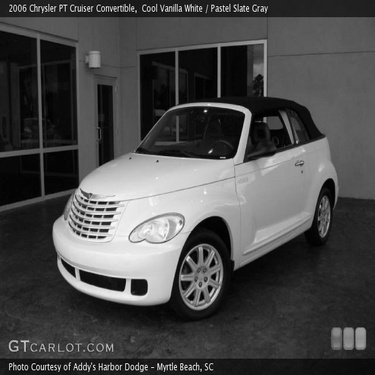car: (45, 85, 343, 325)
